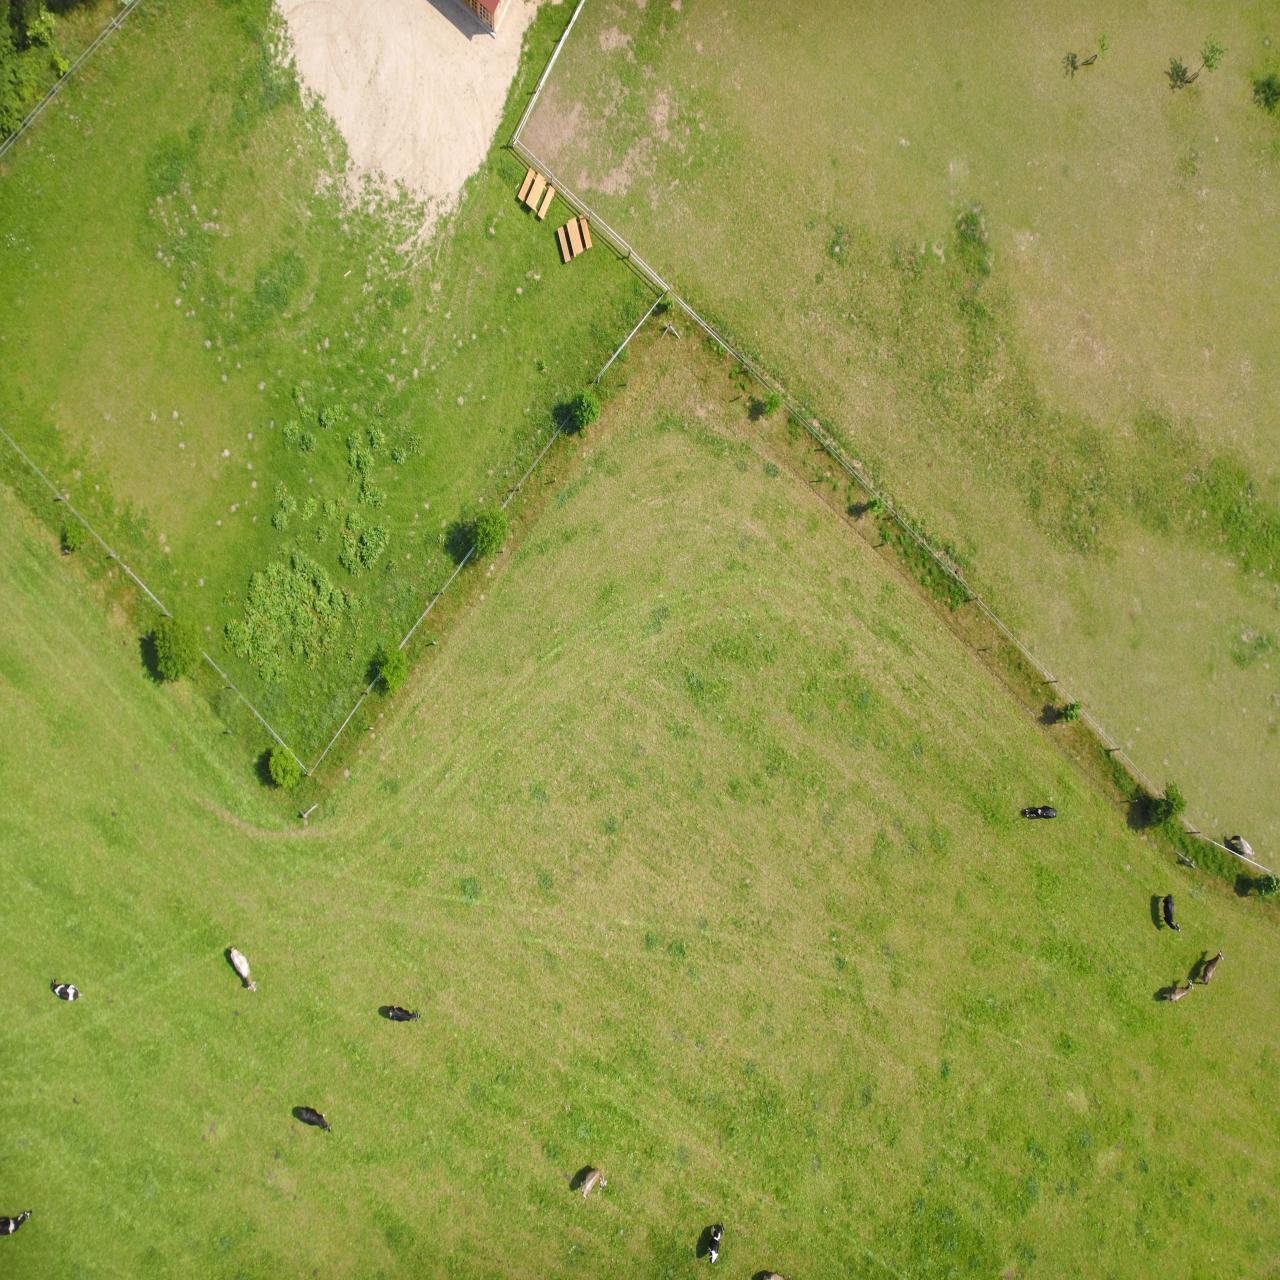cow: (1023, 287, 1049, 334), (673, 76, 699, 111), (56, 294, 81, 331), (948, 147, 980, 173), (98, 348, 121, 386), (86, 278, 117, 300), (1197, 279, 1228, 301), (859, 257, 893, 275), (556, 16, 571, 57), (223, 461, 253, 475)
